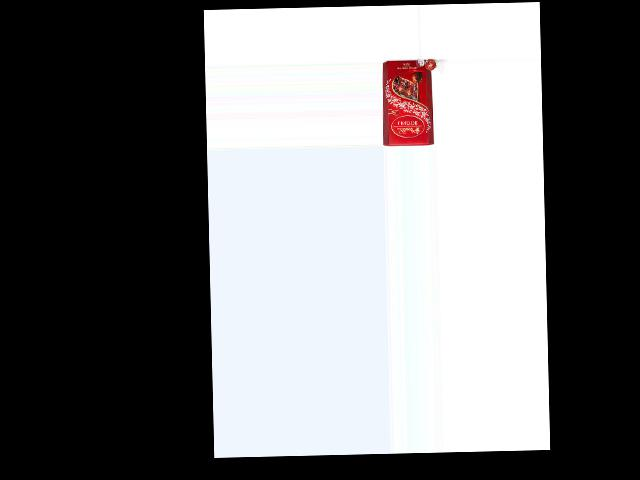chocolate: (382, 59, 439, 146)
